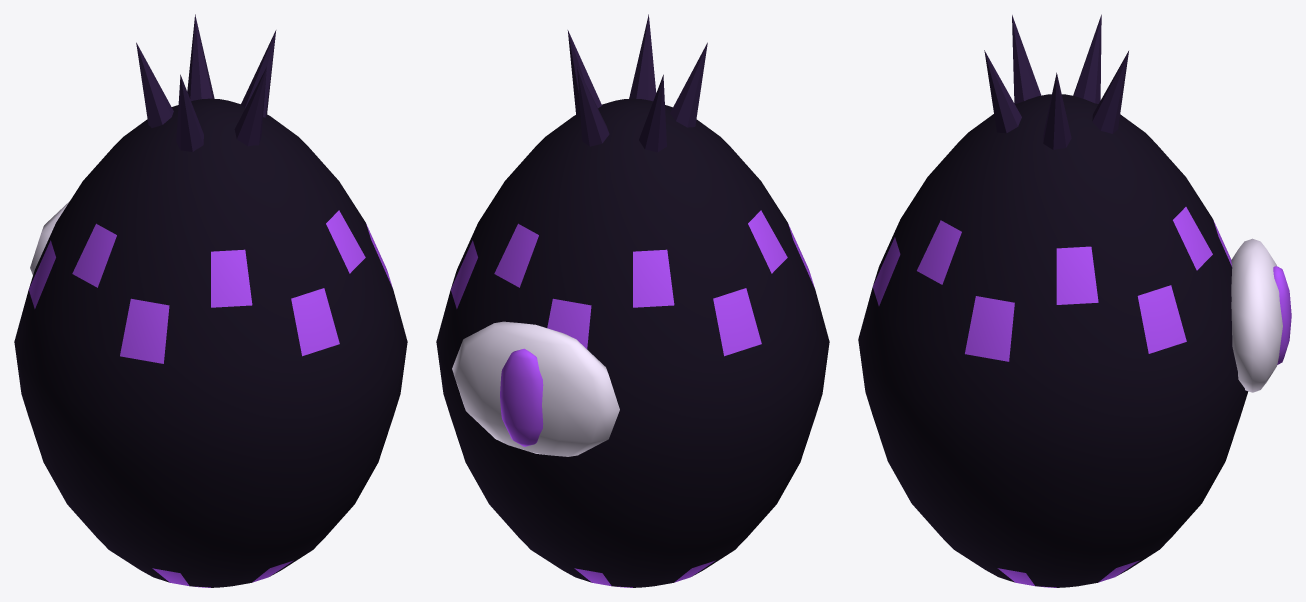
Rendered from Void.glb.
3 renders of one model, left to right at view 1: azimuth 30°, elevation 25°; view 2: azimuth 150°, elevation 25°; view 3: azimuth 270°, elevation 25°, orthographic.
Visible parts, largest first — view 1: Void; view 2: Void; view 3: Void.
Part boxes in pixels (x1=…): Void: x1=14, y1=14, x2=407, y2=587; Void: x1=436, y1=14, x2=829, y2=587; Void: x1=858, y1=14, x2=1291, y2=587.
Size of the model in its own units: 3.04 by 4.53 by 3.32.
Materials: 1 (1 with a texture image).
